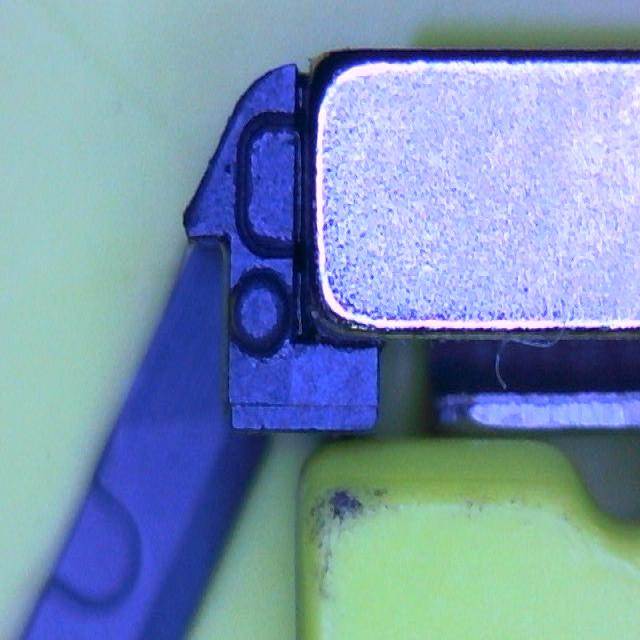lacking: (232, 109, 306, 262)
